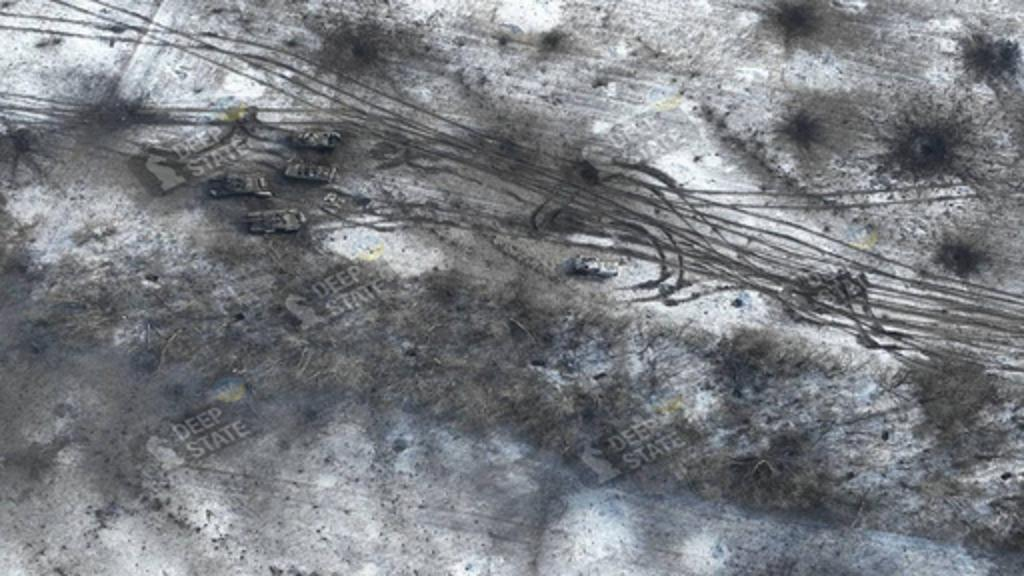APC-IFV: (562, 246, 620, 282), (276, 154, 336, 186), (290, 124, 336, 150)
TANK: (228, 206, 304, 236), (190, 170, 266, 196)
